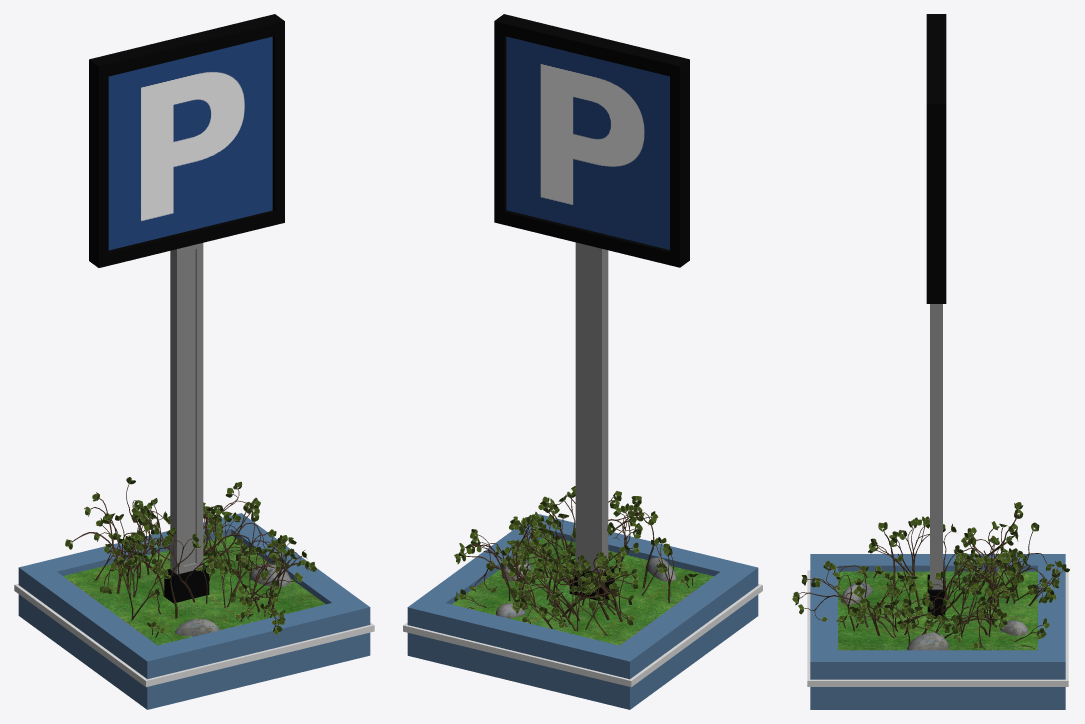
File: fbxSign.fbx
The picture shows the model from 3 angles, left to right: view 1: azimuth 30°, elevation 25°; view 2: azimuth 150°, elevation 25°; view 3: azimuth 270°, elevation 25°; orthographic projection.
Parts seen in each view (by area): view 1: sign, floor; view 2: sign, floor; view 3: floor, sign.
Boxes of the visible parts, x1,y1,x2,y2 form: sign: (89,14,284,603); floor: (14,477,374,709); sign: (494,14,689,601); floor: (403,486,762,709); floor: (792,502,1069,709); sign: (926,14,946,618).
Size of the model in its own units: 5.12 by 12.8 by 5.46.
9 materials, 5 textured.
